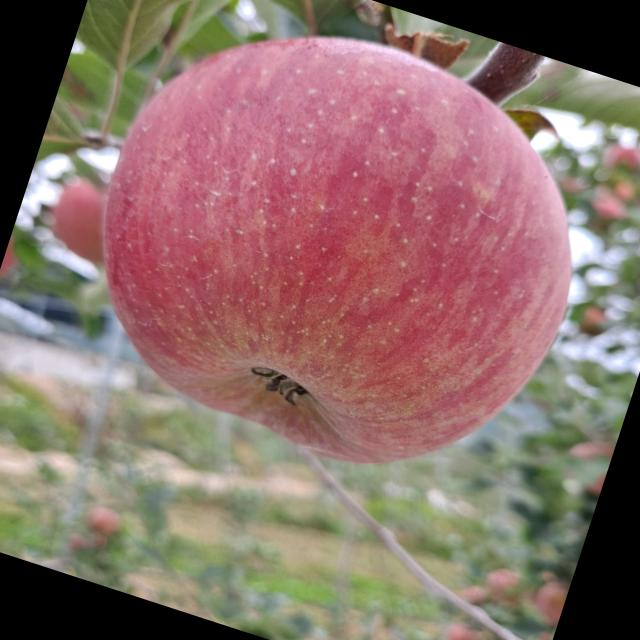fresh: (42, 1, 639, 518)
